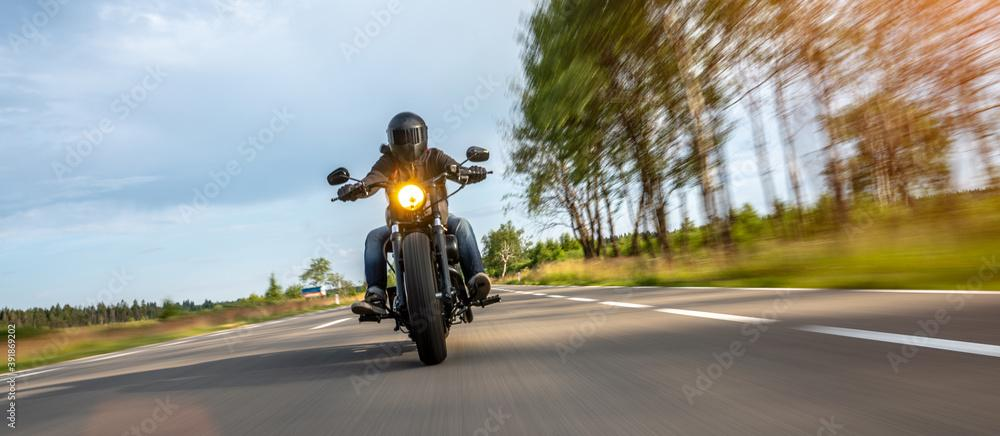helmet: (386, 111, 429, 164)
